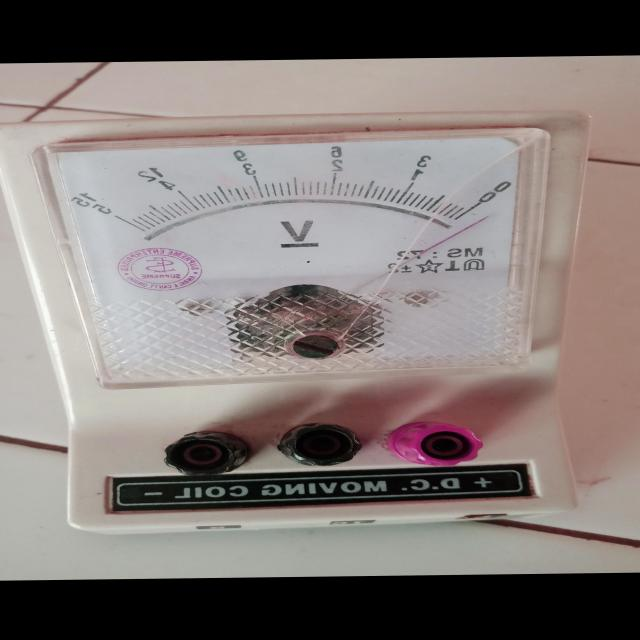Analog Voltmeter: (0, 107, 607, 548)
